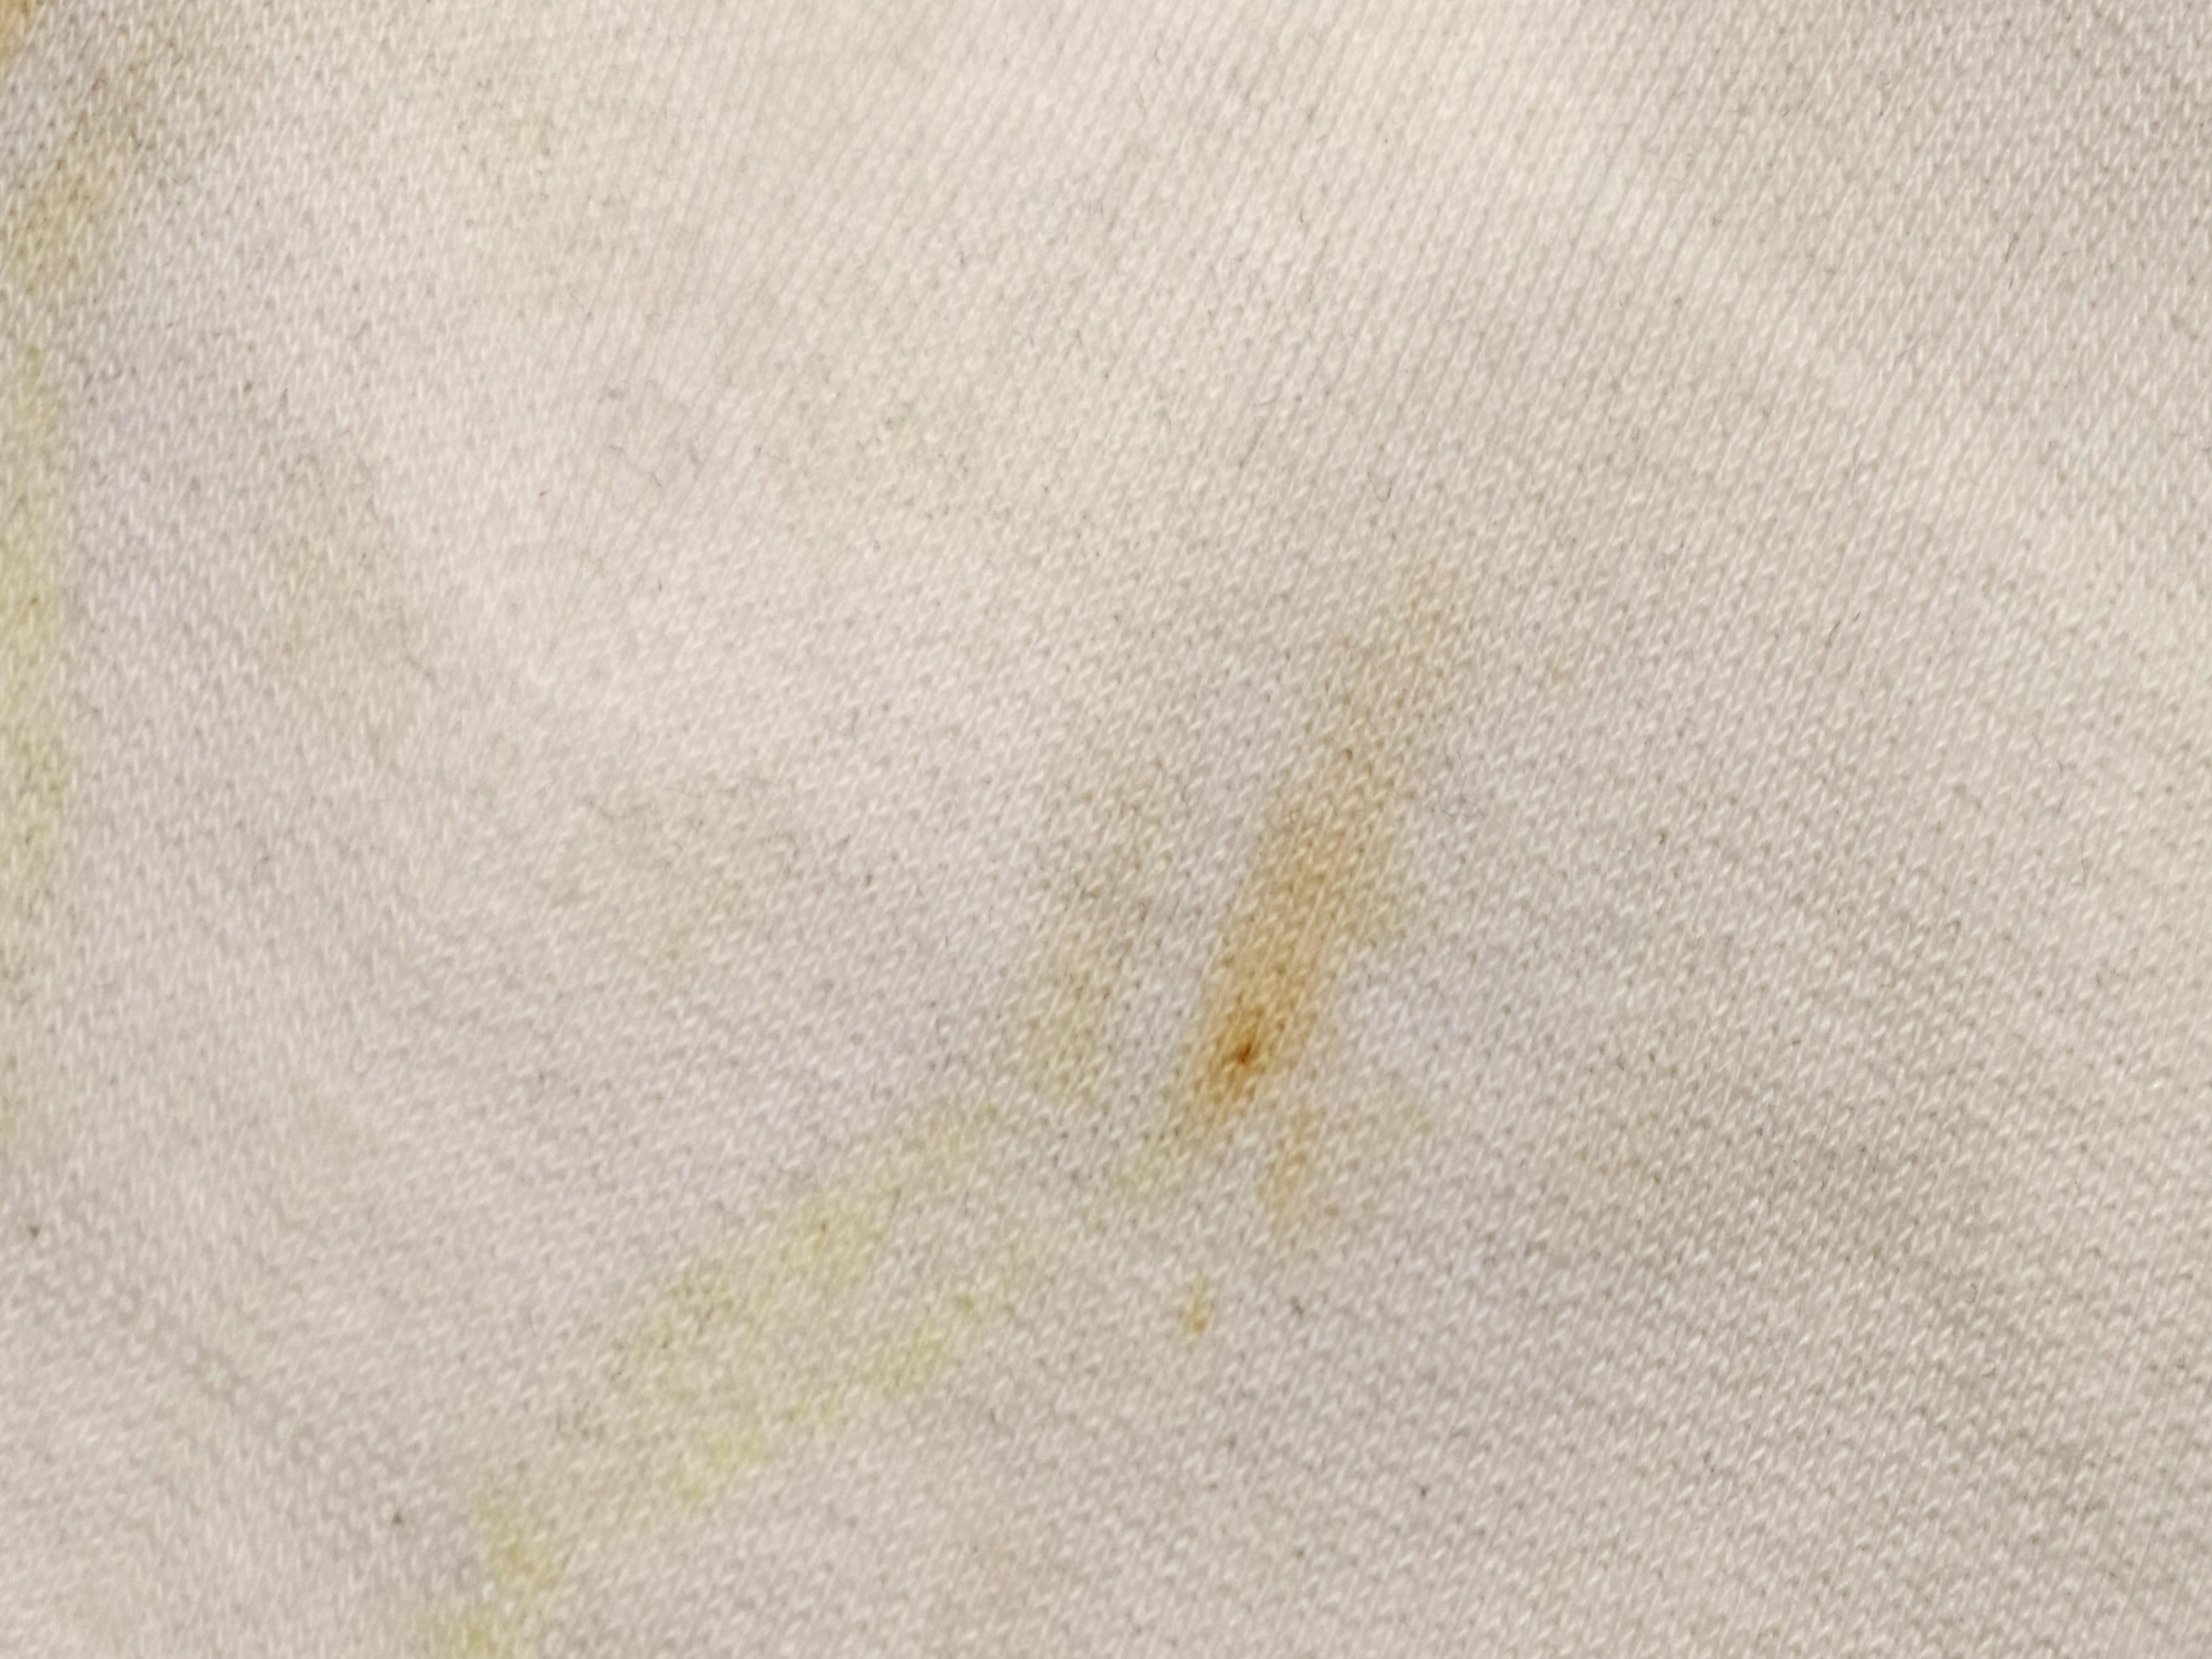stain: (1169, 758, 1397, 1134)
